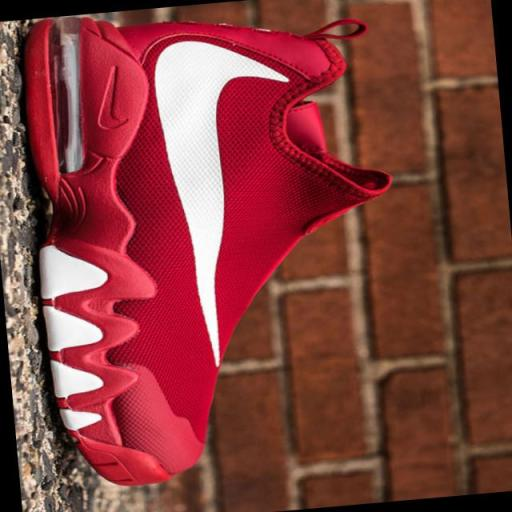Nike: (149, 32, 302, 372)
